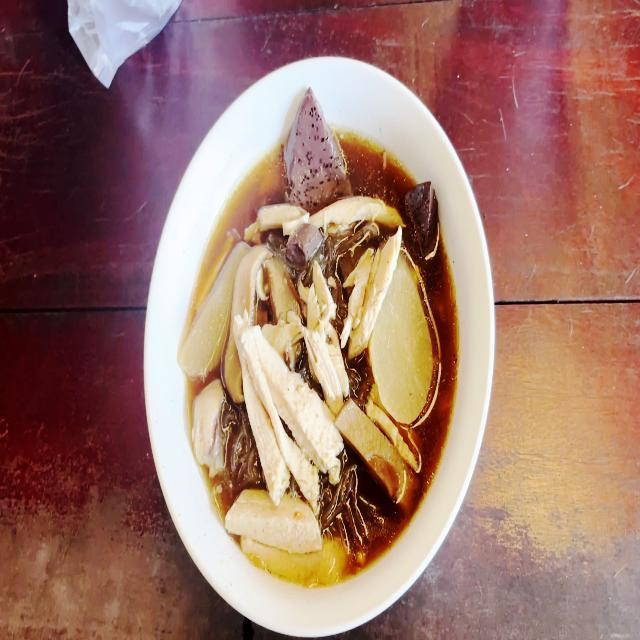boiled_chicken_blood_jelly: (285, 96, 348, 200), (404, 172, 436, 245), (288, 224, 322, 262)
chicken_shredded: (241, 318, 328, 495), (341, 234, 403, 340), (230, 497, 314, 545), (308, 267, 340, 392), (190, 378, 226, 468), (316, 194, 397, 228), (256, 202, 303, 228)
daikon_radish: (179, 236, 237, 382), (371, 280, 432, 416)
noodle: (188, 127, 457, 586)
